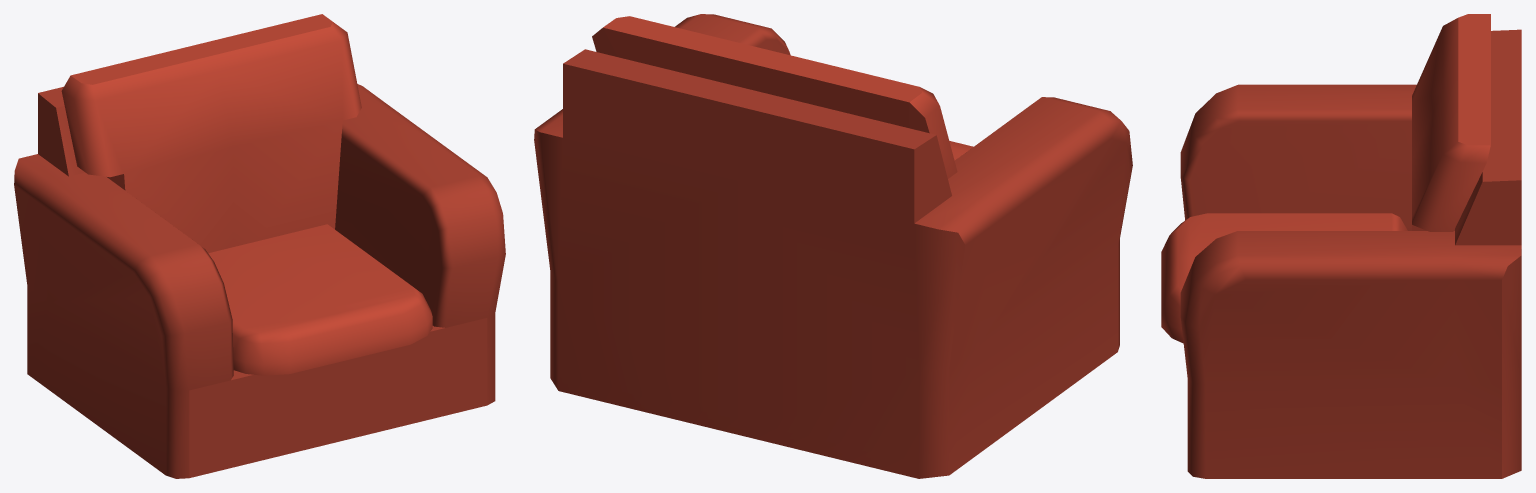
The model's file is Poltrona.fbx.
The picture shows the model from 3 angles, left to right: view 1: azimuth 30°, elevation 25°; view 2: azimuth 150°, elevation 25°; view 3: azimuth 270°, elevation 25°; orthographic projection. The views are drawn at different scales.
Visible parts, largest first — view 1: Poltrona; view 2: Poltrona; view 3: Poltrona.
Boxes of the visible parts, box(x1,y1,x2,y2) form: Poltrona: box(14, 14, 505, 478); Poltrona: box(534, 14, 1132, 478); Poltrona: box(1161, 14, 1521, 478).
Bounding box in the file's own units: 1.15 × 0.9064 × 0.9424.
